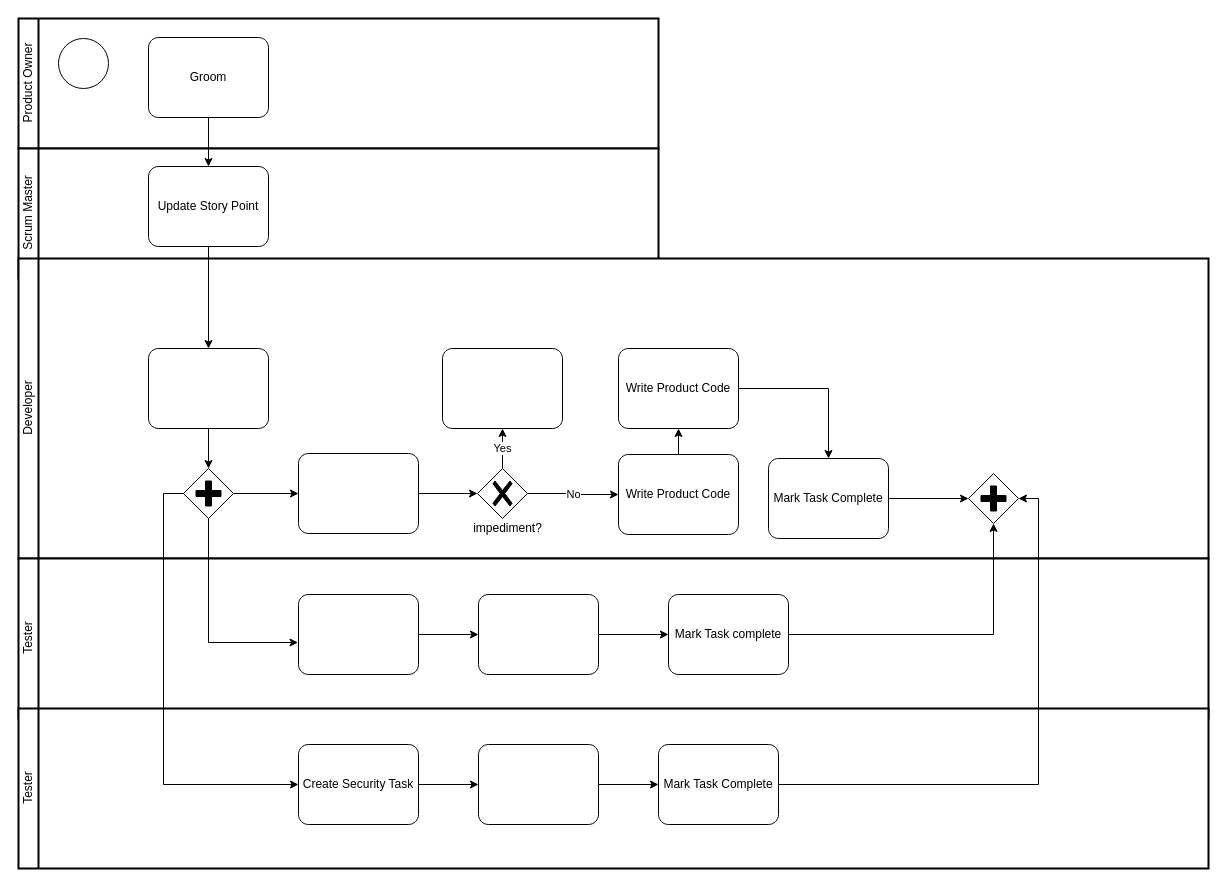
This 1226x886 diagram has some shape labels left out. Here are the shapes that lost their labels. From the top down, the centre of each, then its label:
(208,388): Pull Story
(502,388): flag impediment
(358,493): Create Development Task
(358,634): Create Unit Testing Task
(538,634): Write Unit Test Code
(538,784): Write Security Code
